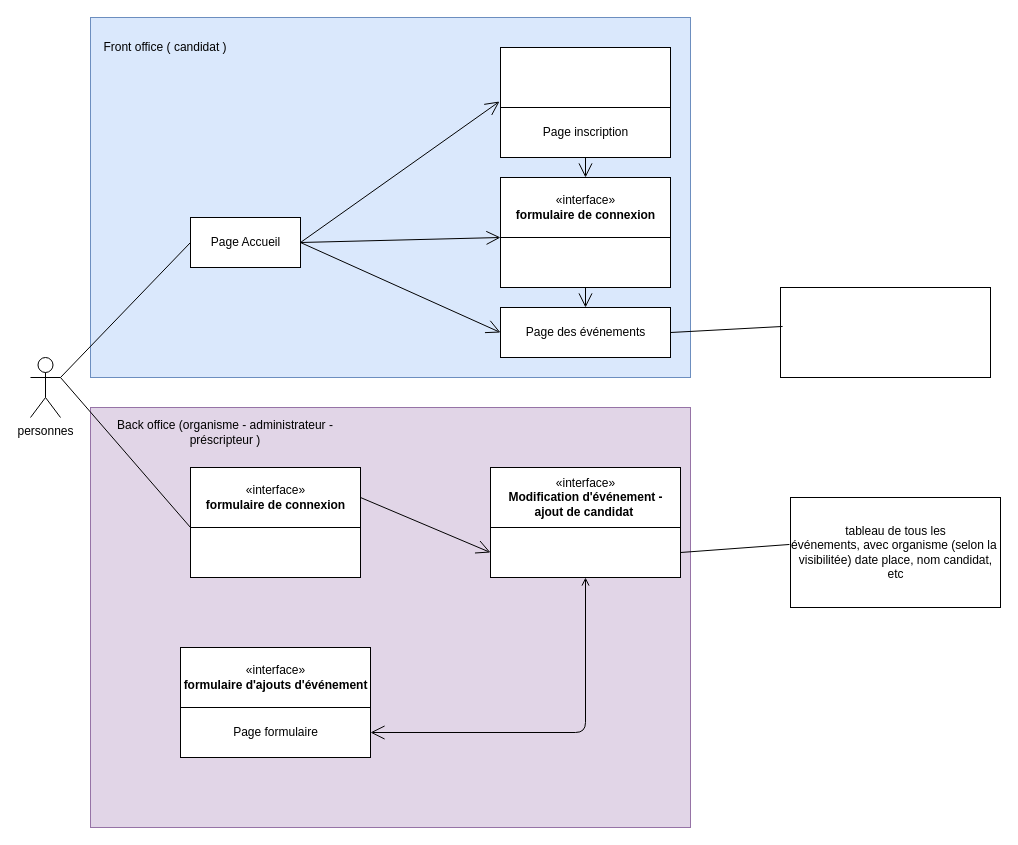
The diagram is 1018 pixels wide and 845 high, and some of its shapes have lost their labels. Here are the shapes that lost their labels. From the top down, the centre of each, then its label:
(585,77): «interface» formulaire d'inscription
(585,262): Modal ou Page de connexion
(885,332): les événements en cours et ceux prochainements
(275,552): Page connexion
(585,552): Listes des événements
